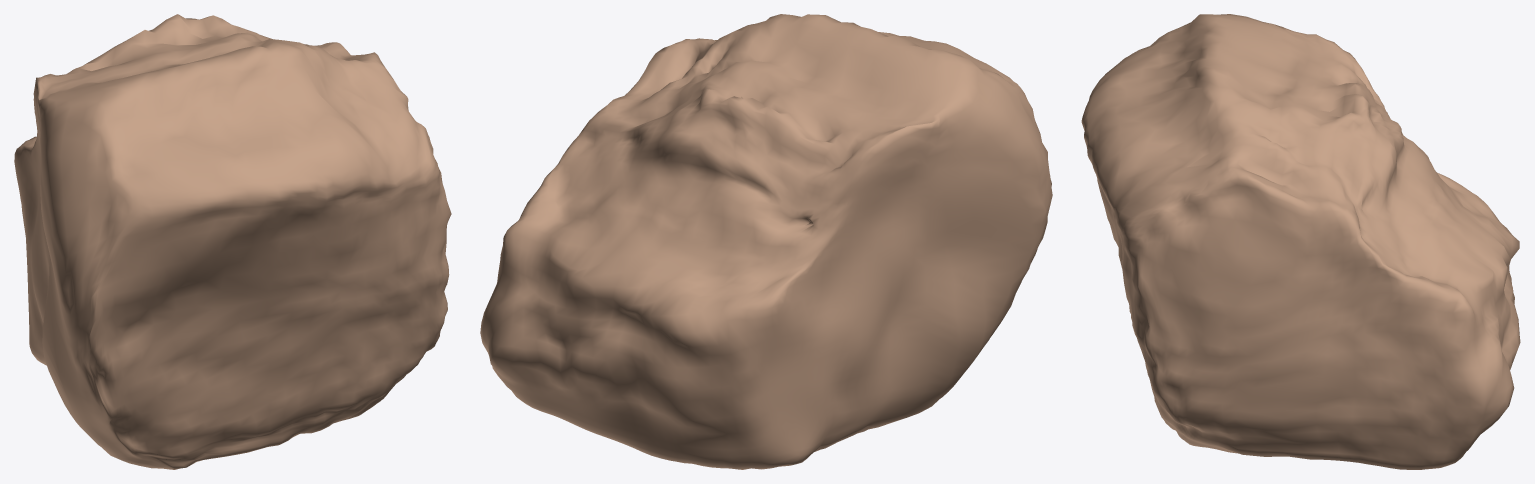
Rendered from boulder.fbx.
3 renders of one model, left to right at view 1: azimuth 30°, elevation 25°; view 2: azimuth 150°, elevation 25°; view 3: azimuth 270°, elevation 25°, orthographic. The views are drawn at different scales.
Visible parts, largest first — view 1: cube; view 2: cube; view 3: cube.
Part boxes in pixels (bbox=[...]): cube: bbox=[14, 14, 451, 469]; cube: bbox=[480, 14, 1052, 469]; cube: bbox=[1081, 14, 1520, 469].
Bounding box in the file's own units: 225 × 198 × 226.
